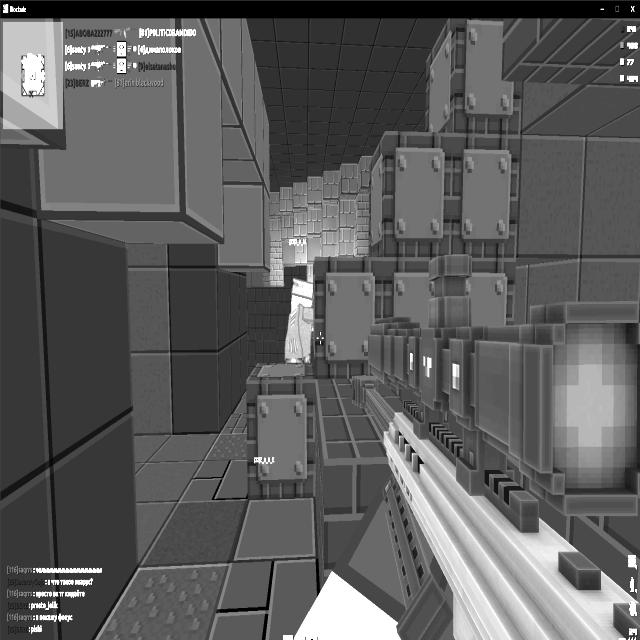Head: (289, 278, 316, 312)
Player: (284, 276, 317, 364)
